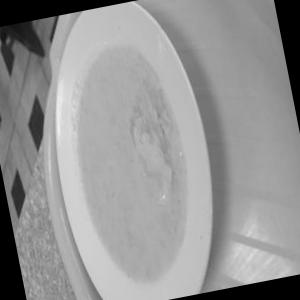porridge: (36, 14, 232, 295)
